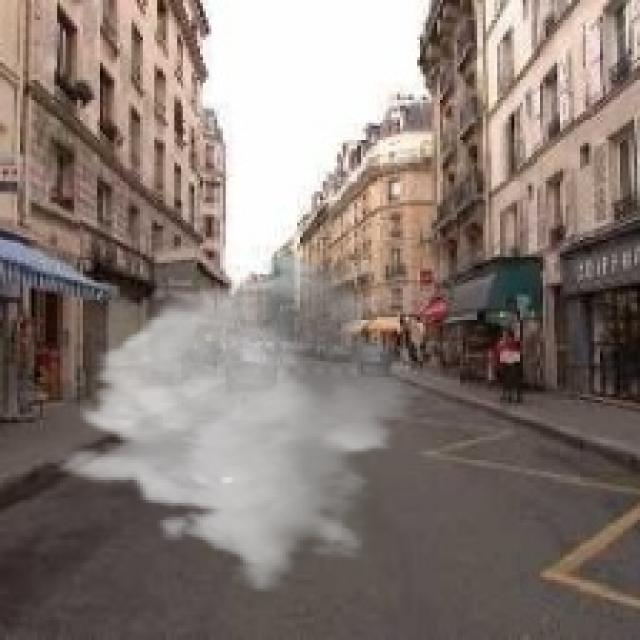smoke: (52, 252, 434, 594)
